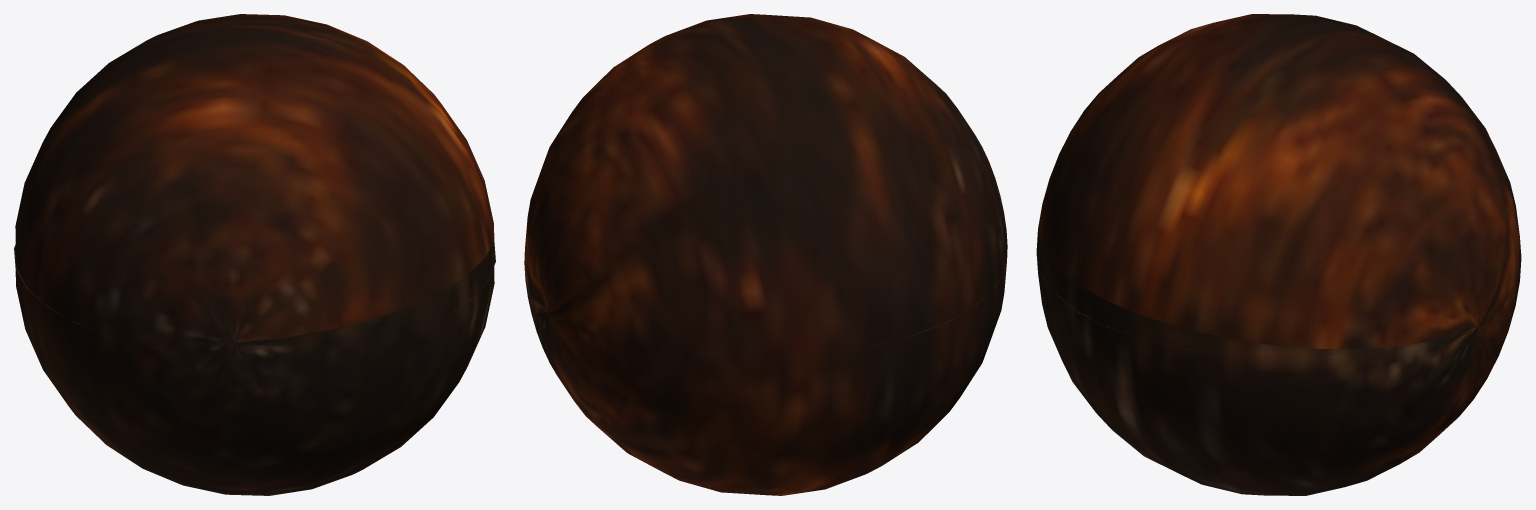
Rendered from Skydome.fbx.
The picture shows the model from 3 angles, left to right: view 1: azimuth 30°, elevation 25°; view 2: azimuth 150°, elevation 25°; view 3: azimuth 270°, elevation 25°; orthographic projection.
Parts seen in each view (by area): view 1: Skydome_Part; view 2: Skydome_Part; view 3: Skydome_Part.
Part boxes in pixels (x1=…): Skydome_Part: x1=15, y1=14, x2=494, y2=495; Skydome_Part: x1=524, y1=14, x2=1007, y2=495; Skydome_Part: x1=1036, y1=14, x2=1521, y2=495.
Bounding box in the file's own units: 29989 × 29809 × 29989.
